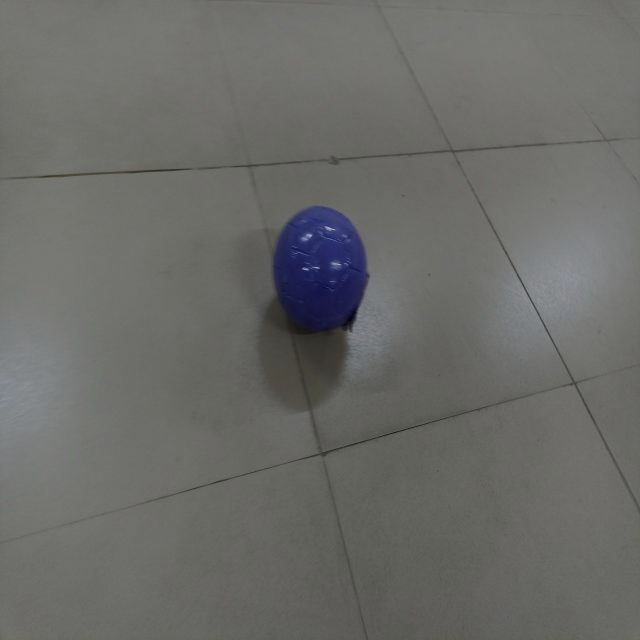purple_ball: (263, 200, 374, 338)
